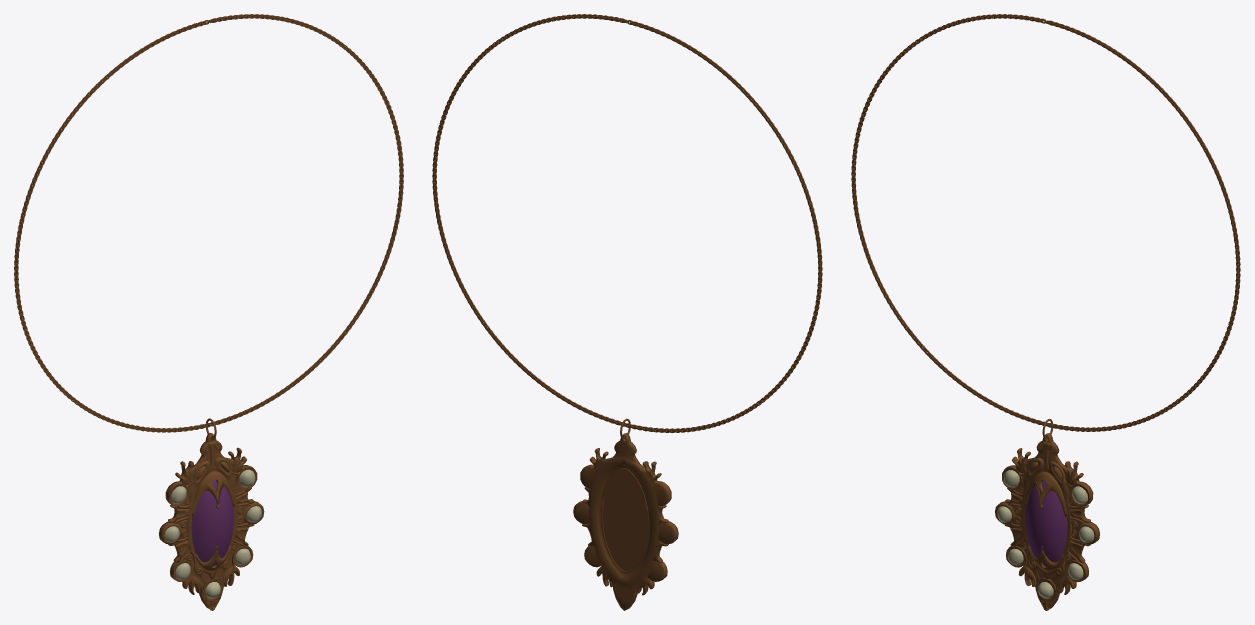
The model's file is Catharine_pendant.fbx.
3 renders of one model, left to right at view 1: azimuth 30°, elevation 25°; view 2: azimuth 150°, elevation 25°; view 3: azimuth 330°, elevation 25°, orthographic.
Visible parts, largest first — view 1: Catherine_Pendant, Catherine_current; view 2: Catherine_Pendant, Catherine_current; view 3: Catherine_Pendant, Catherine_current.
Part boxes in pixels (bbox=[...]): Catherine_Pendant: bbox=[159, 433, 264, 610]; Catherine_current: bbox=[14, 14, 403, 432]; Catherine_Pendant: bbox=[573, 433, 678, 610]; Catherine_current: bbox=[432, 14, 822, 432]; Catherine_Pendant: bbox=[995, 433, 1099, 610]; Catherine_current: bbox=[851, 14, 1240, 431].
Bounding box in the file's own units: 19.38 × 28.11 × 1.07.
